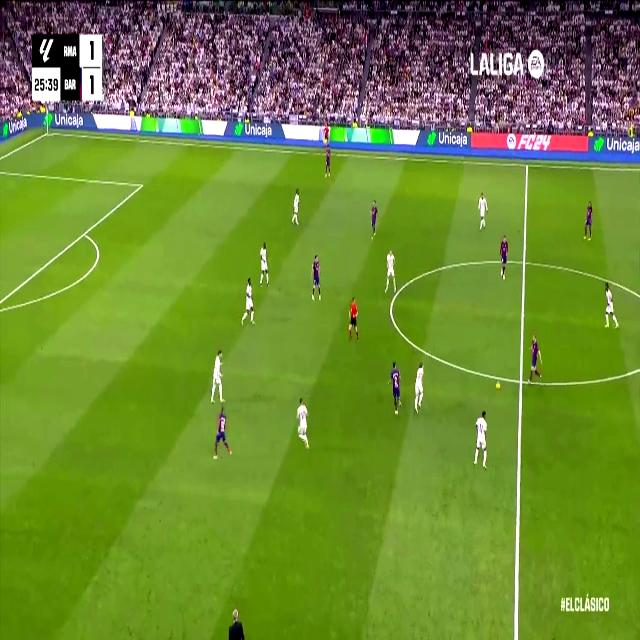bigarea_top_inner: (138, 177, 144, 192)
corner: (44, 127, 52, 137)
halfcircle_bottom: (516, 367, 526, 392)
halfcircle_top: (519, 250, 530, 274)
midline_top_intersection: (524, 158, 530, 172)
top_arc_area_intersection: (80, 224, 88, 240)
